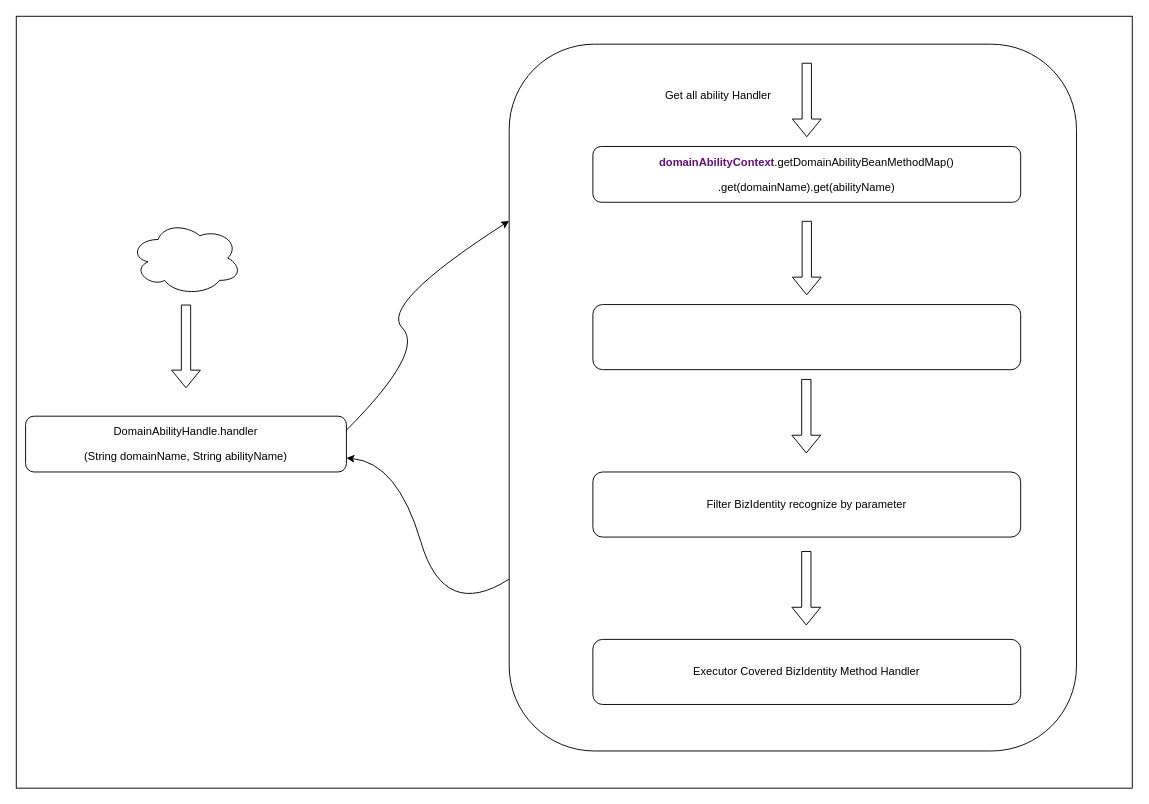
This 1149x804 diagram has some shape labels left out. Each missing label, with the centre of its shape:
Filter parameter and returnType: point (806, 337)
request: point (185, 257)
